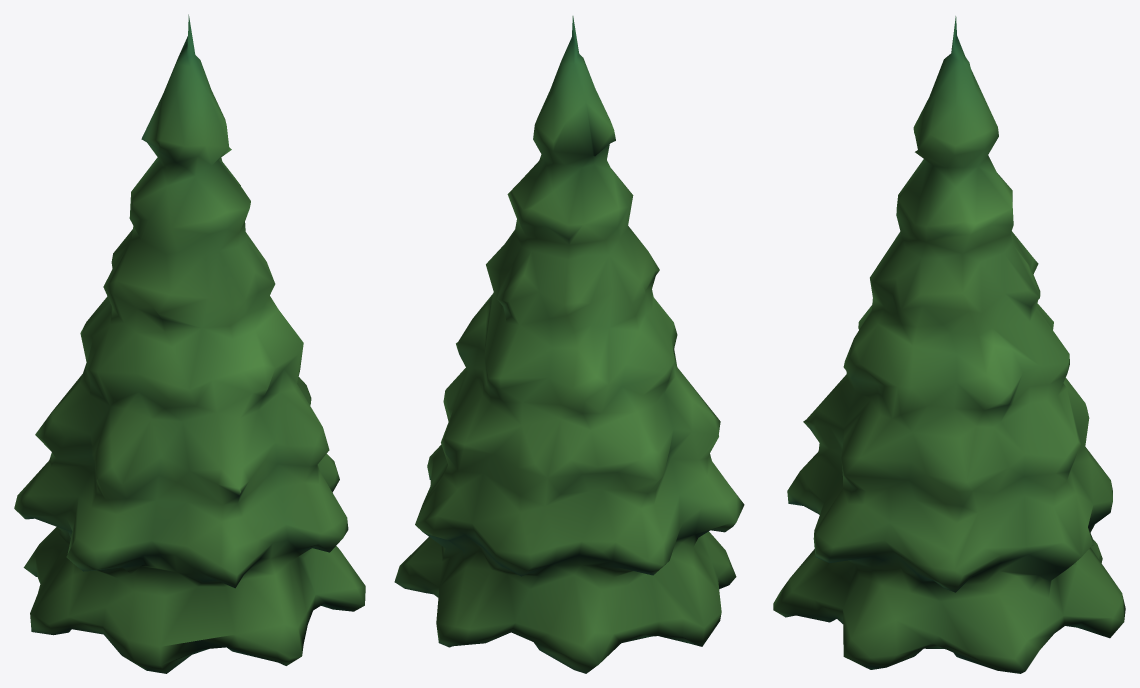
File: Pine_B.glb
The picture shows the model from 3 angles, left to right: view 1: azimuth 30°, elevation 25°; view 2: azimuth 150°, elevation 25°; view 3: azimuth 270°, elevation 25°; orthographic projection.
Visible parts, largest first — view 1: Pine_B; view 2: Pine_B; view 3: Pine_B.
Part boxes in pixels (x1=…): Pine_B: x1=14, y1=14, x2=365, y2=673; Pine_B: x1=394, y1=16, x2=744, y2=673; Pine_B: x1=773, y1=16, x2=1125, y2=673.
Size of the model in its own units: 5.64 by 11.51 by 5.88.
